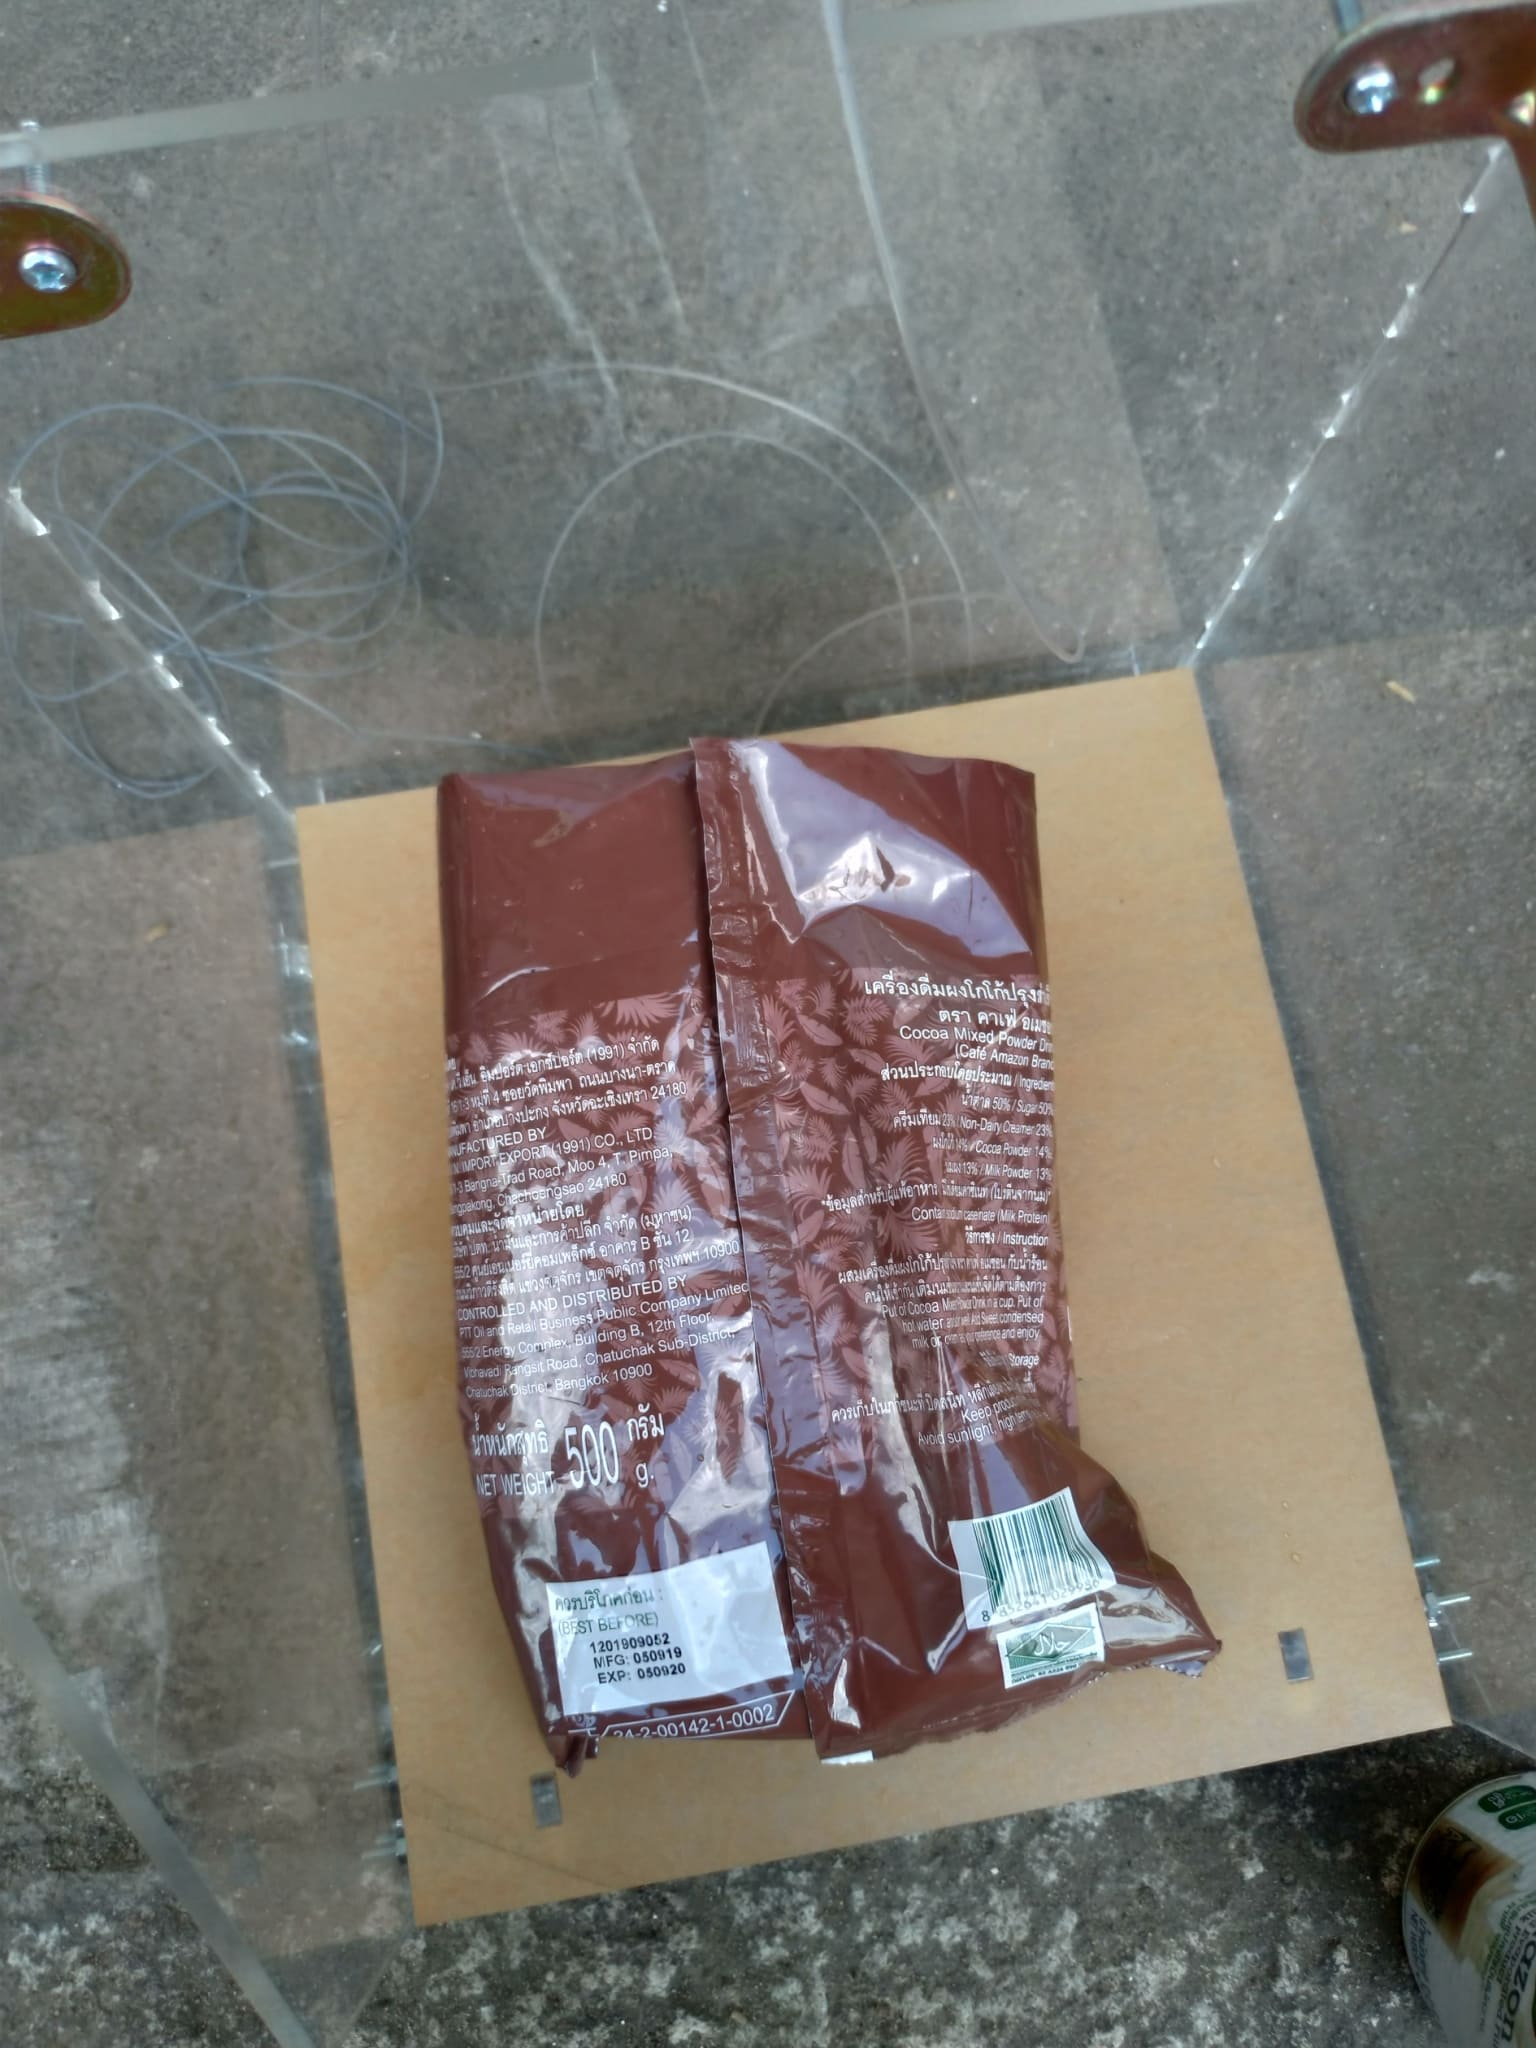Others: (450, 742, 1217, 1767)
